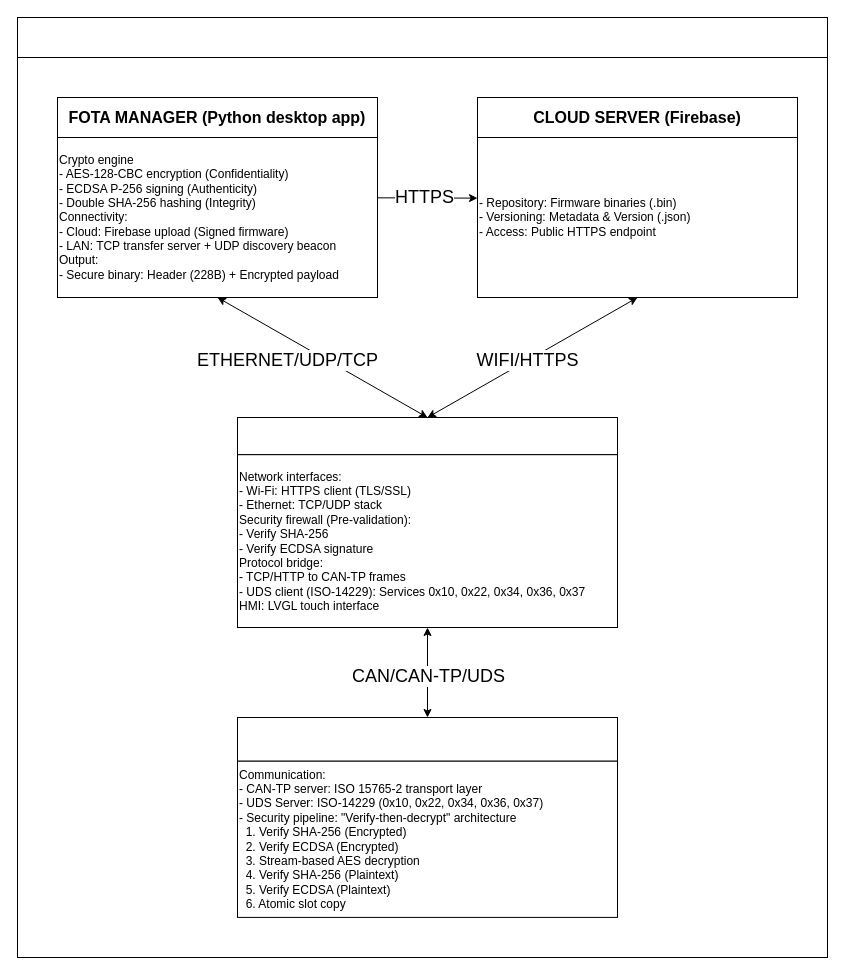
Image size: 845x975. Some labels were removed from this diagram. The centre of each missing label's shape, as x and y in pixels:
GATEWAY (ESP32): point 427,435
SYSTEM ARCHITECTURE: point 422,37
TARGET ECU (STM32): point 427,738
